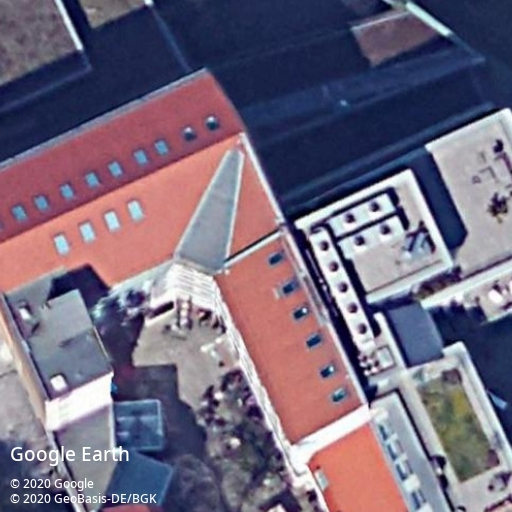Chiller: (308, 230, 376, 352), (336, 215, 405, 259), (330, 193, 396, 236)
